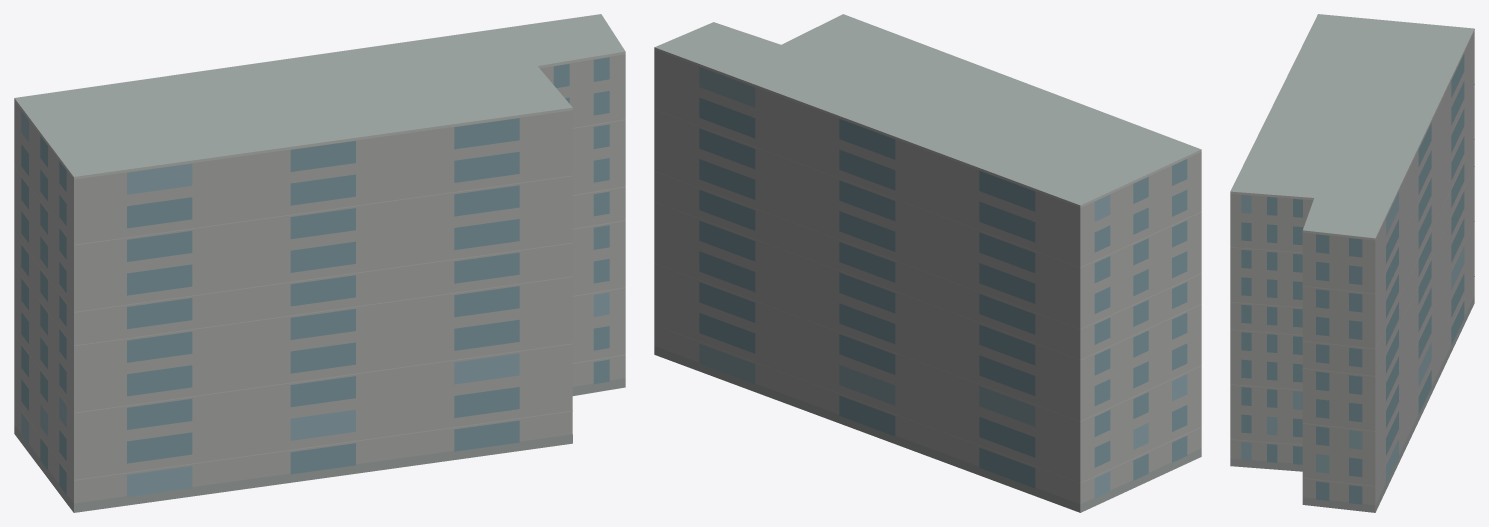
File: residential-11c6ff14-9cbf-43d7-a265-47c4c99ec87c.glb
3 views of the same model, side by side, from view 1: azimuth 30°, elevation 25°; view 2: azimuth 150°, elevation 25°; view 3: azimuth 270°, elevation 25° (orthographic). The views are drawn at different scales.
Parts seen in each view (by area): view 1: residential-11c6ff14-9cbf-43d7-a265-47c4c99ec87c.tmp; view 2: residential-11c6ff14-9cbf-43d7-a265-47c4c99ec87c.tmp; view 3: residential-11c6ff14-9cbf-43d7-a265-47c4c99ec87c.tmp.
Boxes of the visible parts, x1,y1,x2,y2 form: residential-11c6ff14-9cbf-43d7-a265-47c4c99ec87c.tmp: [14, 14, 625, 512]; residential-11c6ff14-9cbf-43d7-a265-47c4c99ec87c.tmp: [654, 14, 1201, 512]; residential-11c6ff14-9cbf-43d7-a265-47c4c99ec87c.tmp: [1230, 14, 1474, 512].
Size of the model in its own units: 53.48 by 30.5 by 24.64.
